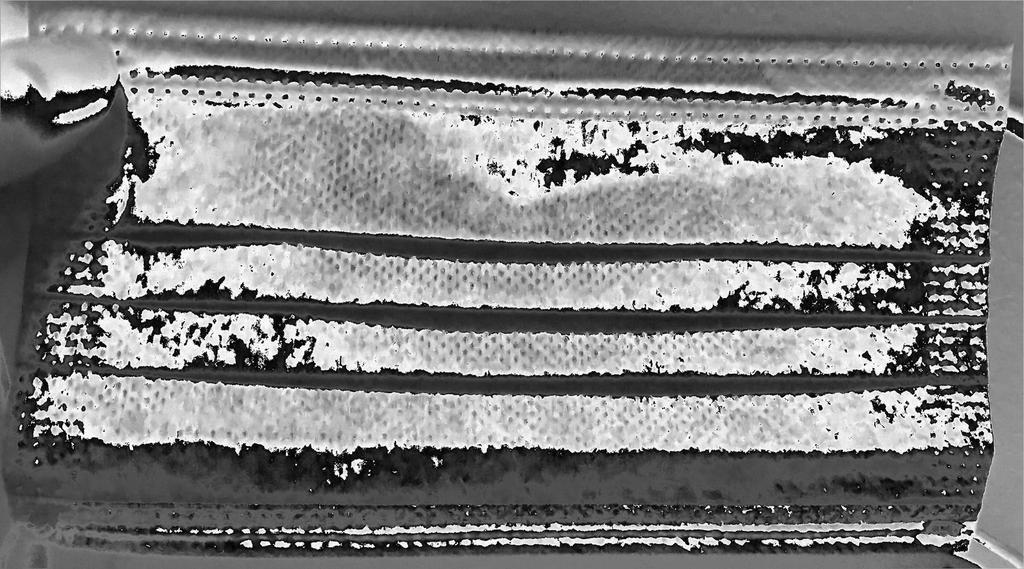High GSM: (134, 61, 1010, 459)
